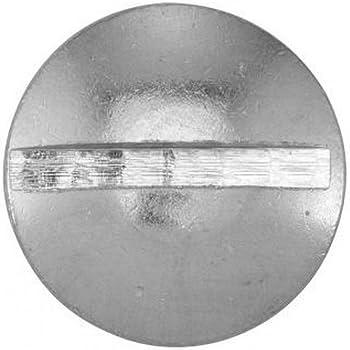screw: (5, 3, 346, 347)
